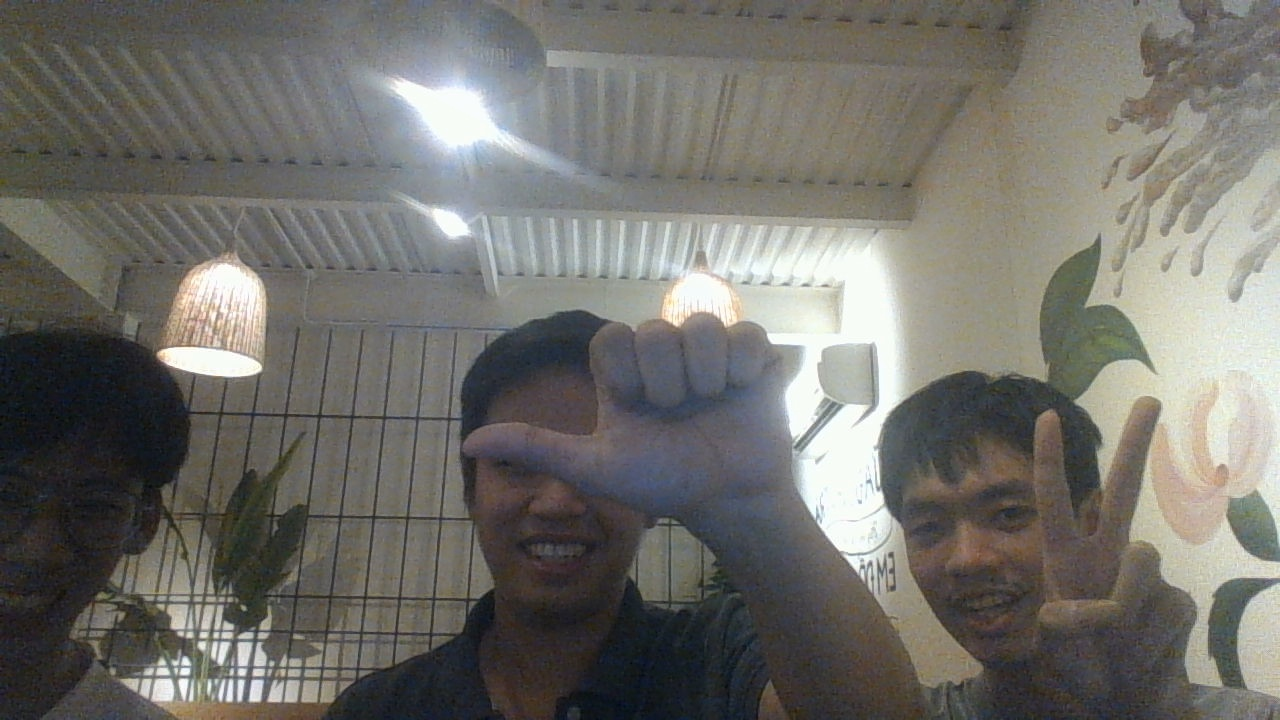back: (464, 316, 801, 519)
wait: (1027, 393, 1202, 718)
